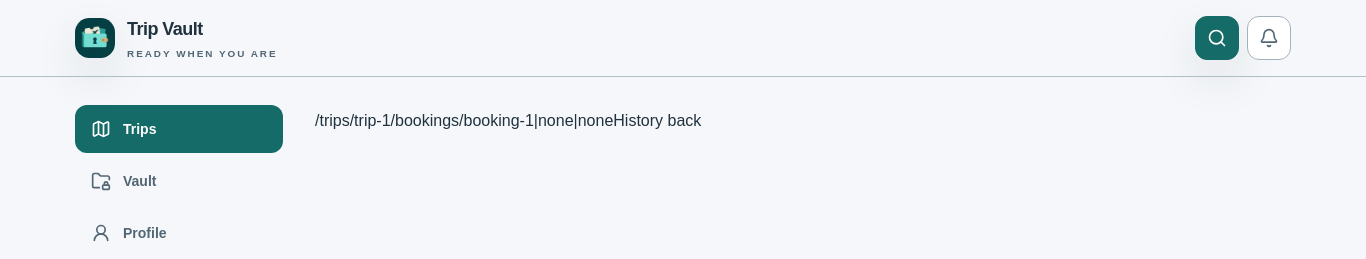
Test: trip header search › opens the trip timeline with a one-shot search intent from a child page
The width and height of the screenshot is (1366, 259).
Step 1. Click the button named "Search this trip" → x=1217, y=38, box [1195,16,1239,60]
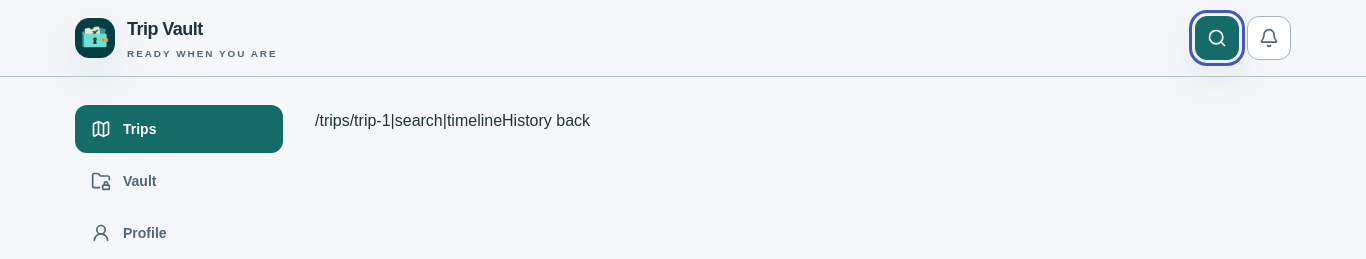
Result: the text named "location" reads "/trips/trip-1|search|timeline" at [315,112,502,129]
